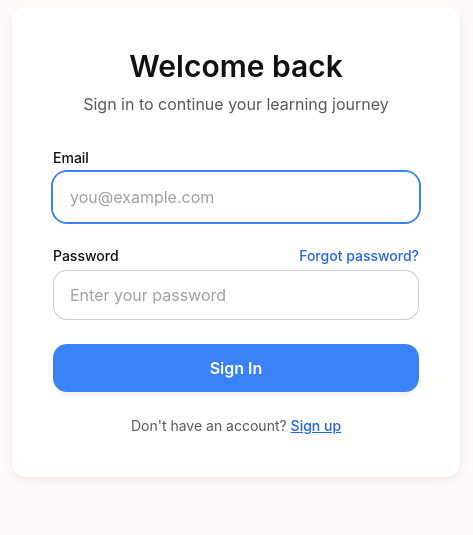
Test: LoginPage › error handling › shows inline error for invalid credentials (401)
Type "test@example.com" into the field labelled "Email" at (236, 197), box [53,172,419,222]
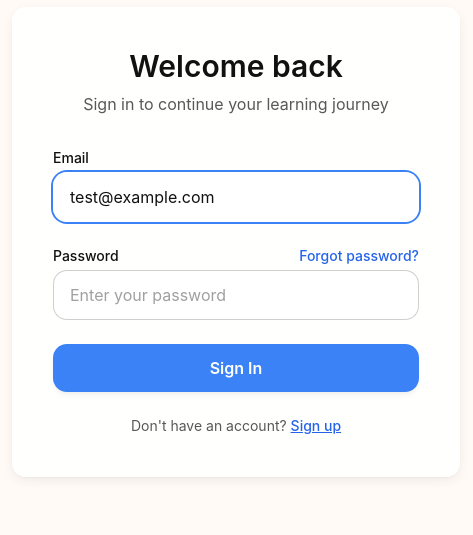
Type "wrongpassword" into the password field labelled "Password" at (236, 295), box [53,270,419,320]
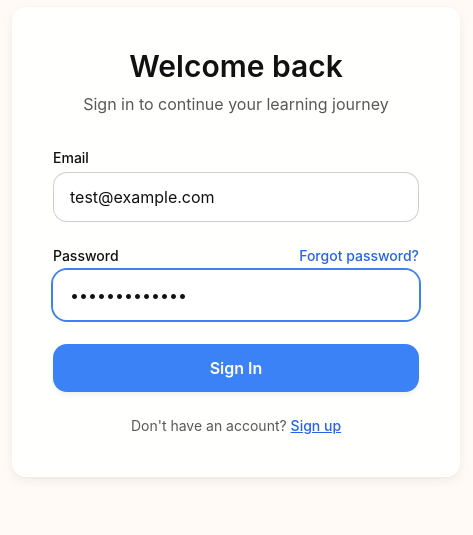
Click the button "Sign In" at (236, 368), box [53,344,419,392]
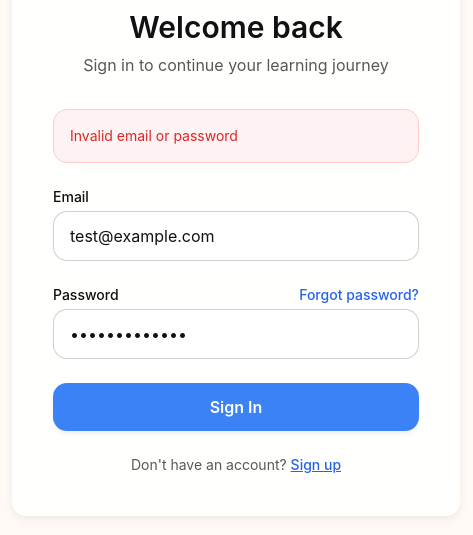
Expected: the text "Invalid email or password" is shown, [70,127,238,144]
